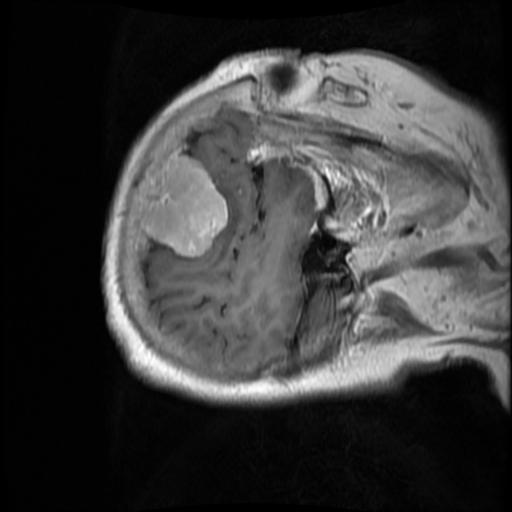meningioma: (144, 156, 228, 258)
